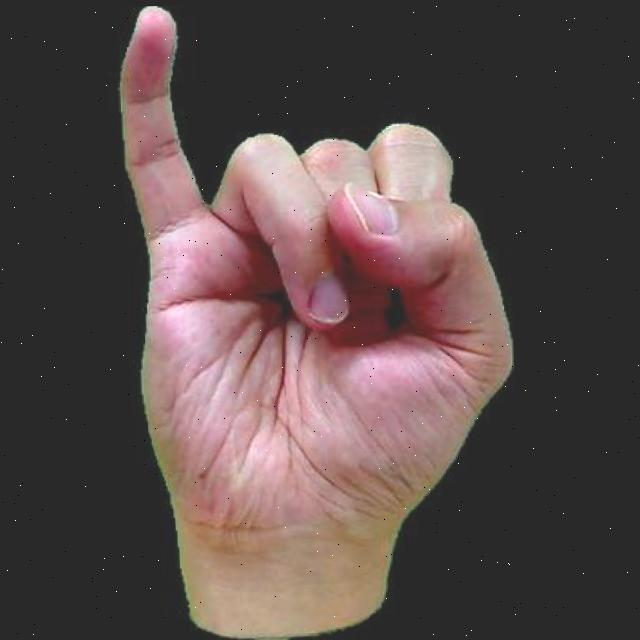i: (89, 0, 524, 640)
